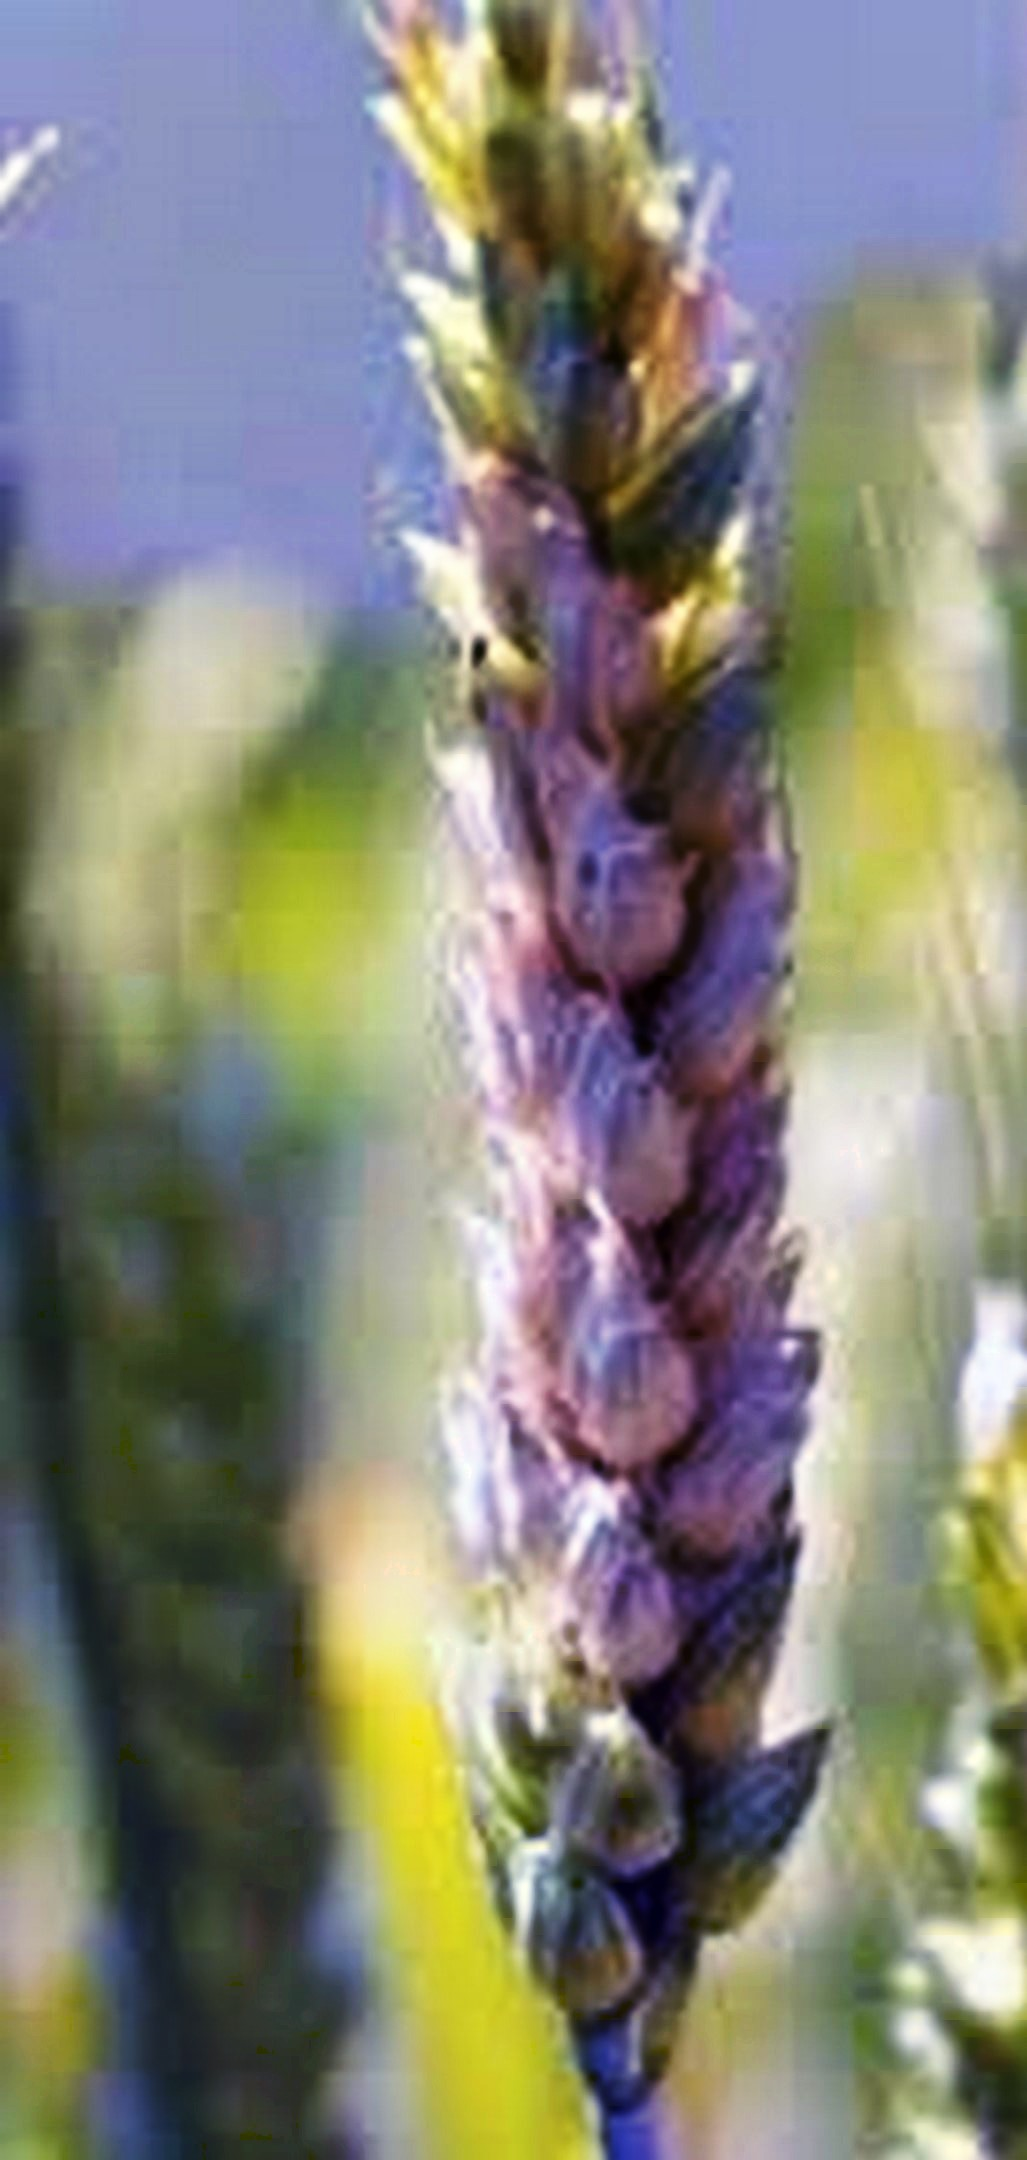Wheat scab: (340, 54, 851, 1977)
